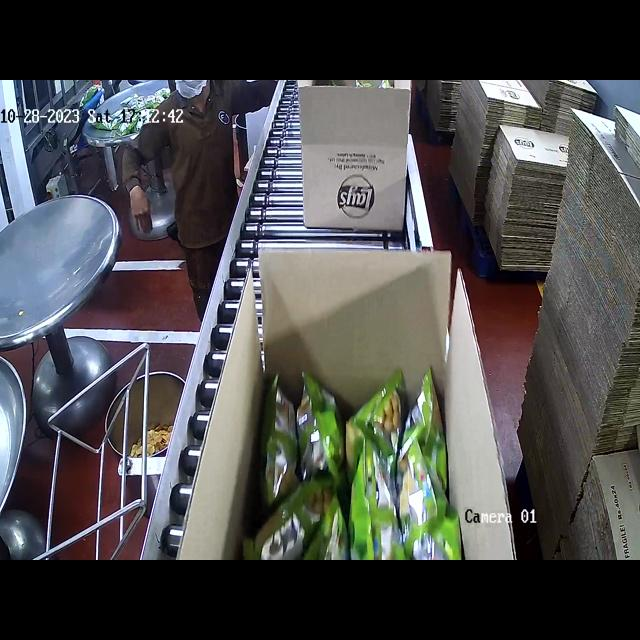yogurt: (262, 364, 463, 560)
